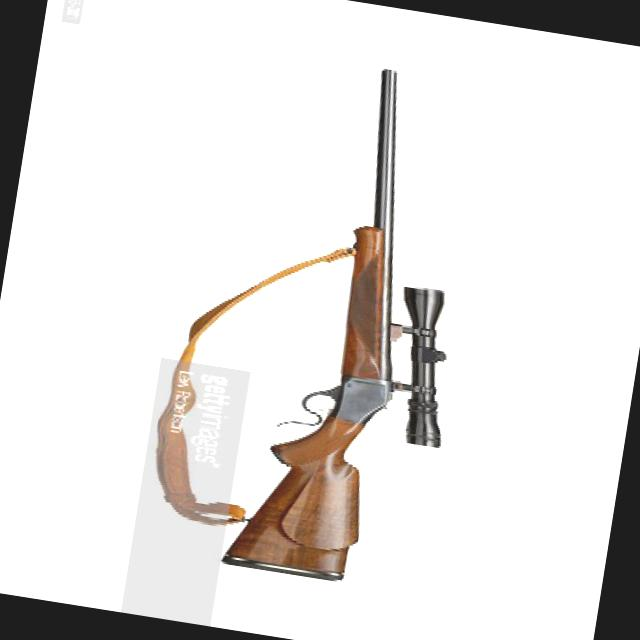long weapon: (213, 48, 504, 600)
